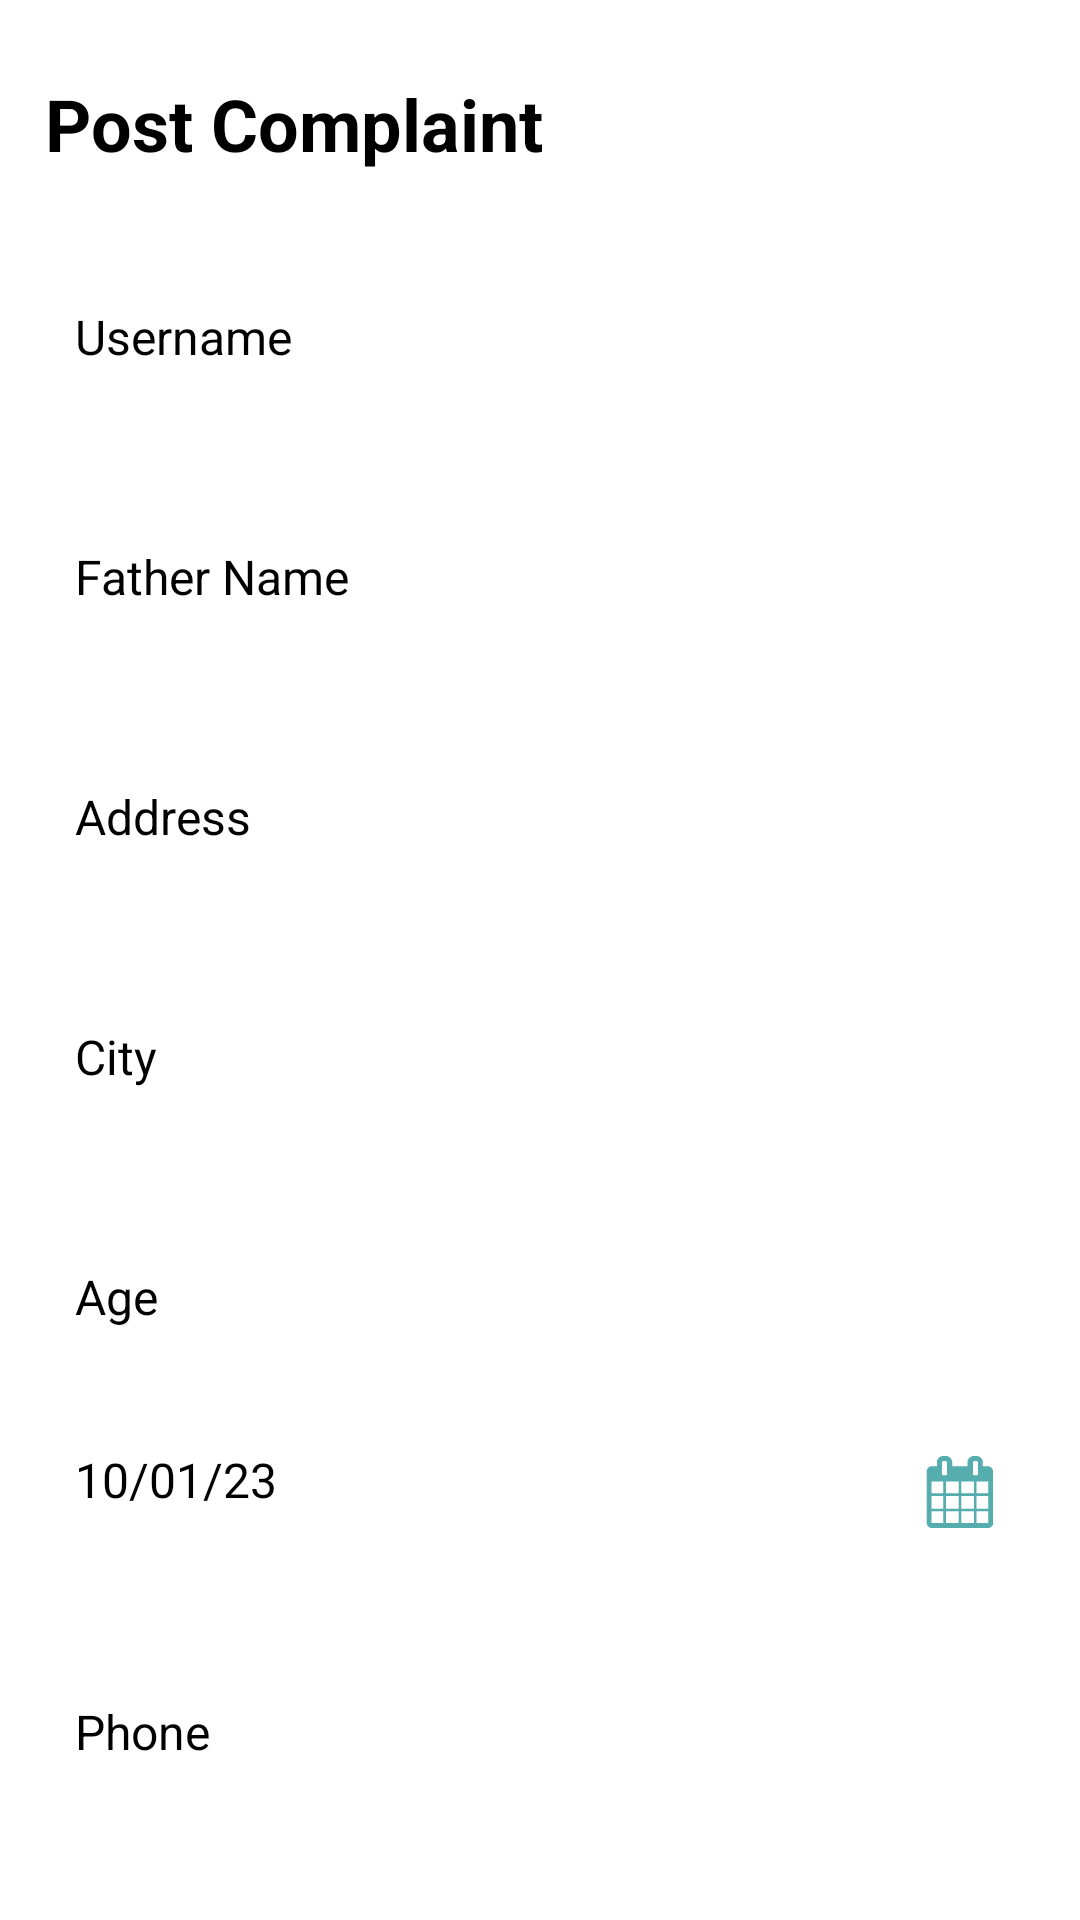

Screen size 1080px×1920px. Icon name, then its box in pixels as (x1, y1, x2, y2):
calender: (926, 1456, 994, 1528)
